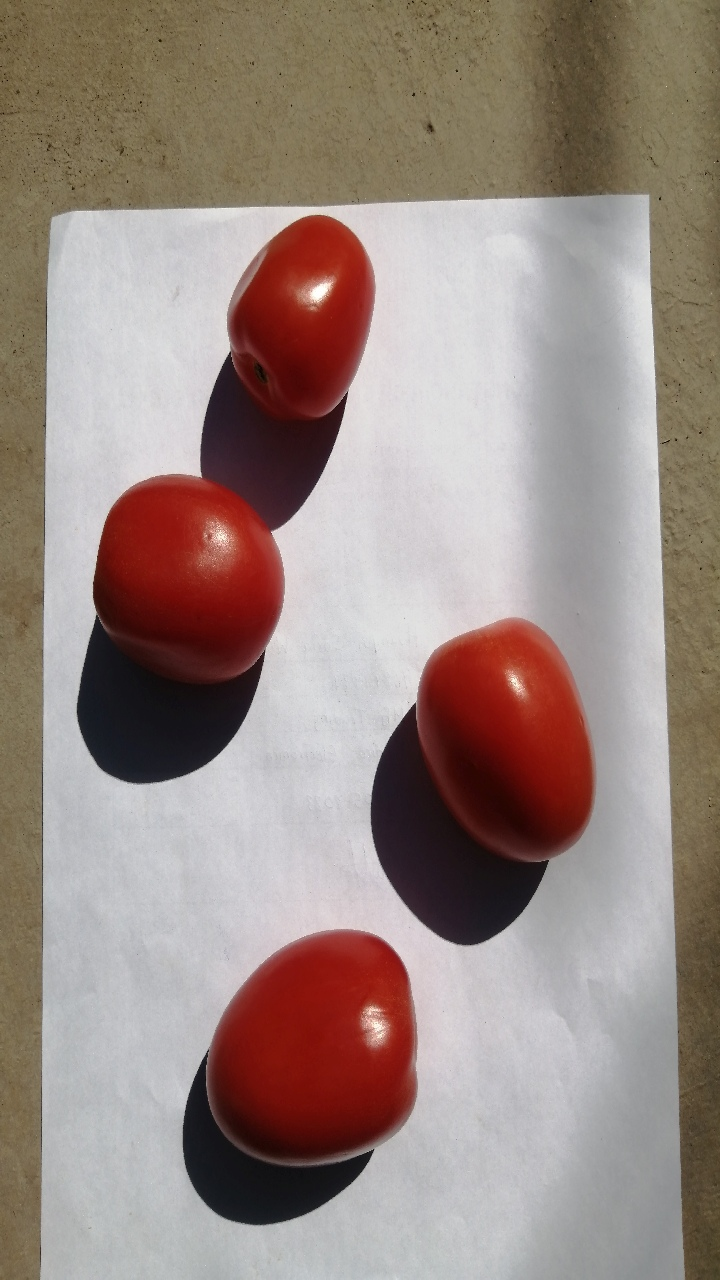tomateRojo: (186, 922, 438, 1200), (72, 454, 297, 692), (408, 600, 604, 871), (200, 199, 392, 443)
